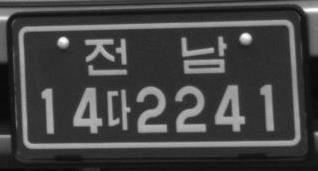1: (253, 82, 280, 133), (35, 86, 61, 135)
2: (173, 83, 207, 133), (135, 84, 168, 135)
4: (213, 83, 246, 132), (70, 86, 103, 133)
다: (105, 88, 131, 131)
전남_D: (82, 35, 227, 77)
